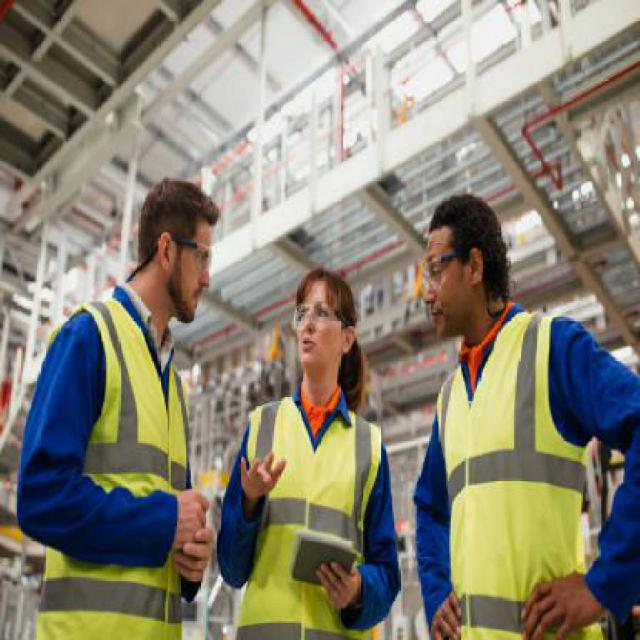glass: (281, 295, 346, 333), (415, 249, 464, 295), (176, 228, 218, 277)
head: (133, 170, 226, 286), (417, 186, 514, 297), (287, 261, 363, 356)
person: (401, 179, 638, 638), (15, 166, 227, 635), (212, 253, 406, 635)
vest: (409, 311, 607, 640), (21, 290, 204, 638), (226, 391, 393, 640)
